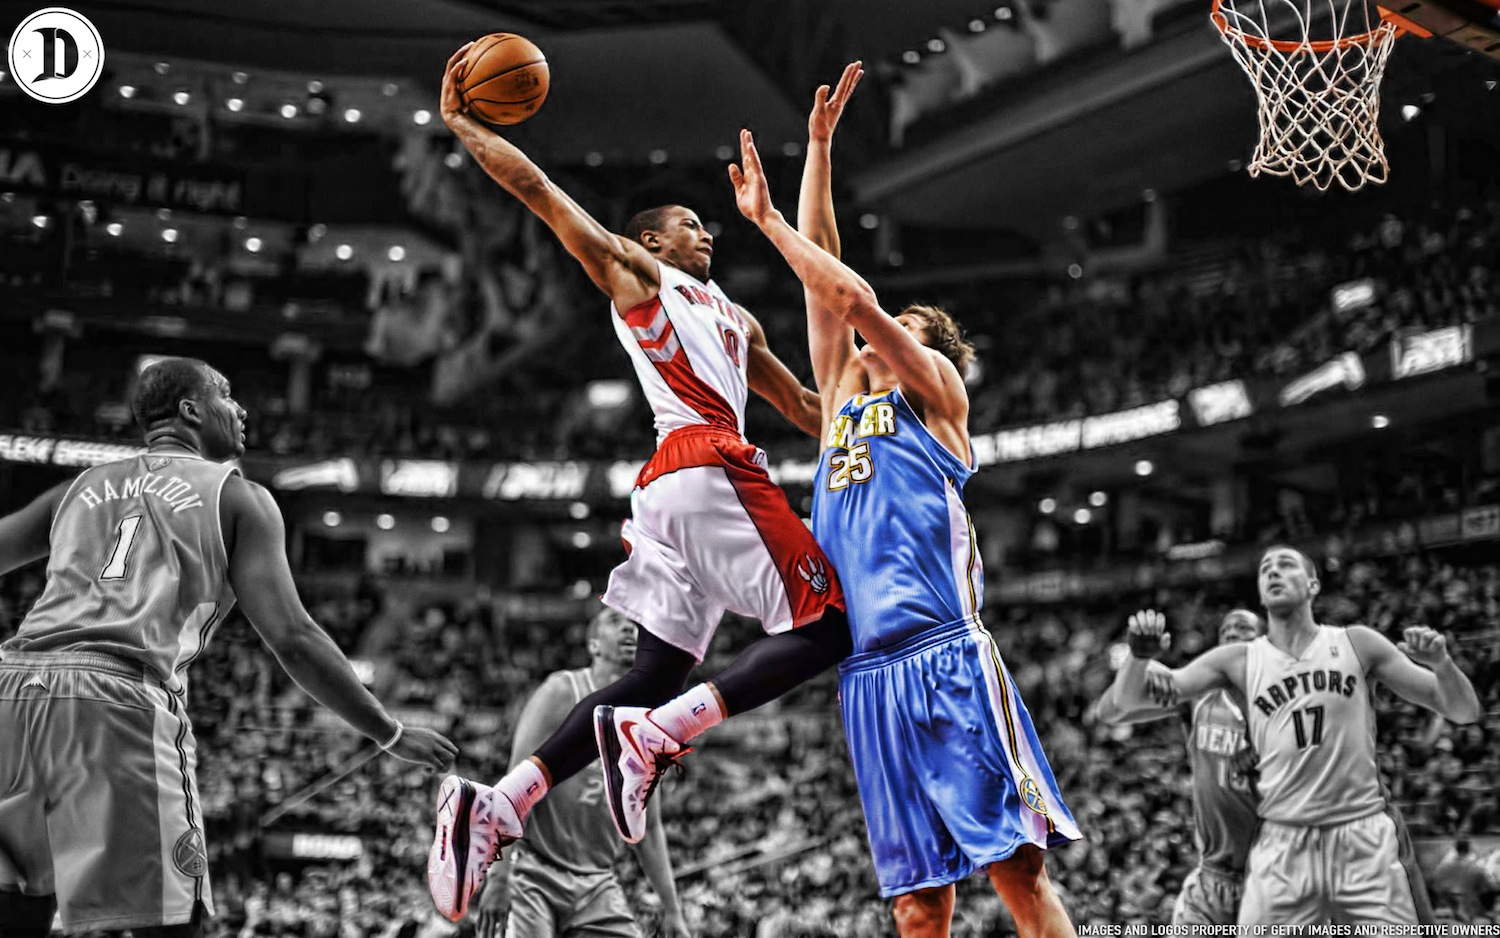ball: (437, 21, 563, 140)
basket: (1201, 0, 1411, 206)
defense: (736, 77, 1091, 938)
shoot: (401, 8, 815, 889)
